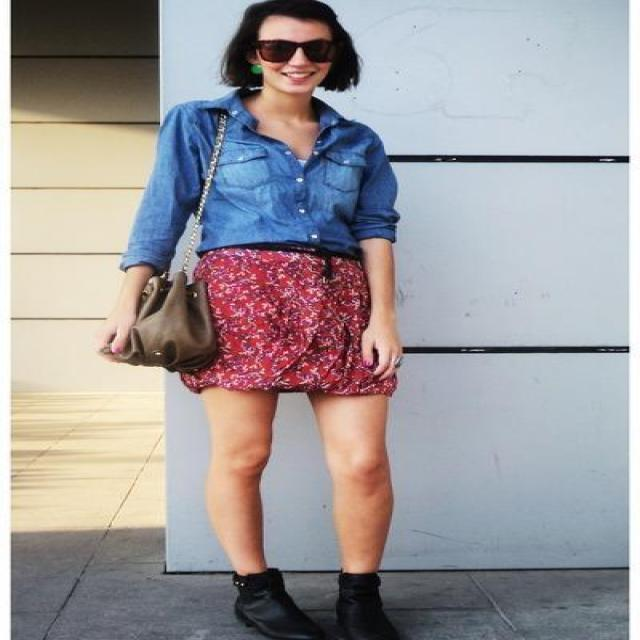jacket: (96, 92, 402, 272), (101, 269, 232, 383)
shoe: (211, 568, 400, 639)
skirt: (182, 248, 396, 408)
sunglass: (288, 29, 357, 63)
